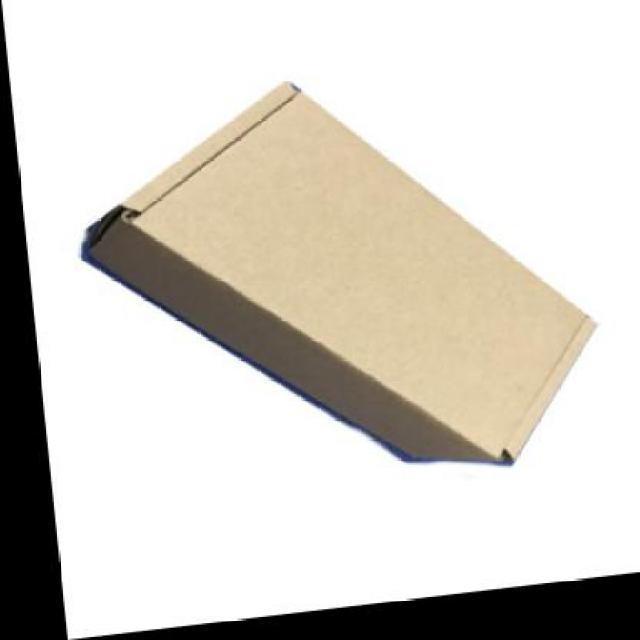box: (74, 63, 599, 509)
